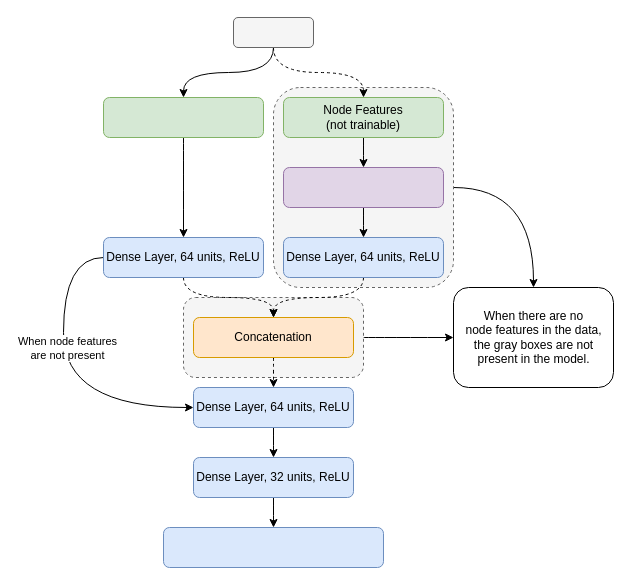
Some shapes in this 631 by 585 pixel diagram are drawn without their labels. Here are the shapes that lost their labels. From the top down, the centre of each, then its label:
At point (273, 32): "Node Id".
At point (183, 117): "Node Embedding Layer (not trainable)".
At point (363, 187): "Dropout (rate depending to the number of node features)".
At point (273, 547): "Output layer (Sigmoid if multi-label, SoftMax if categorical)".
